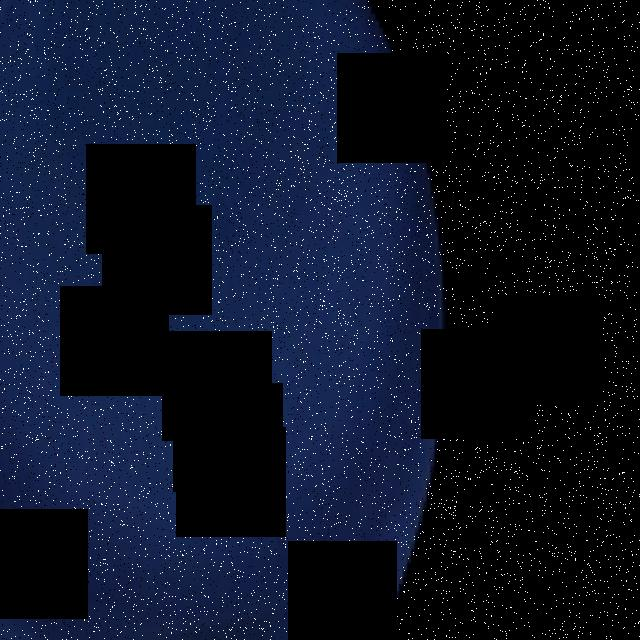Neptune: (0, 0, 451, 640)
